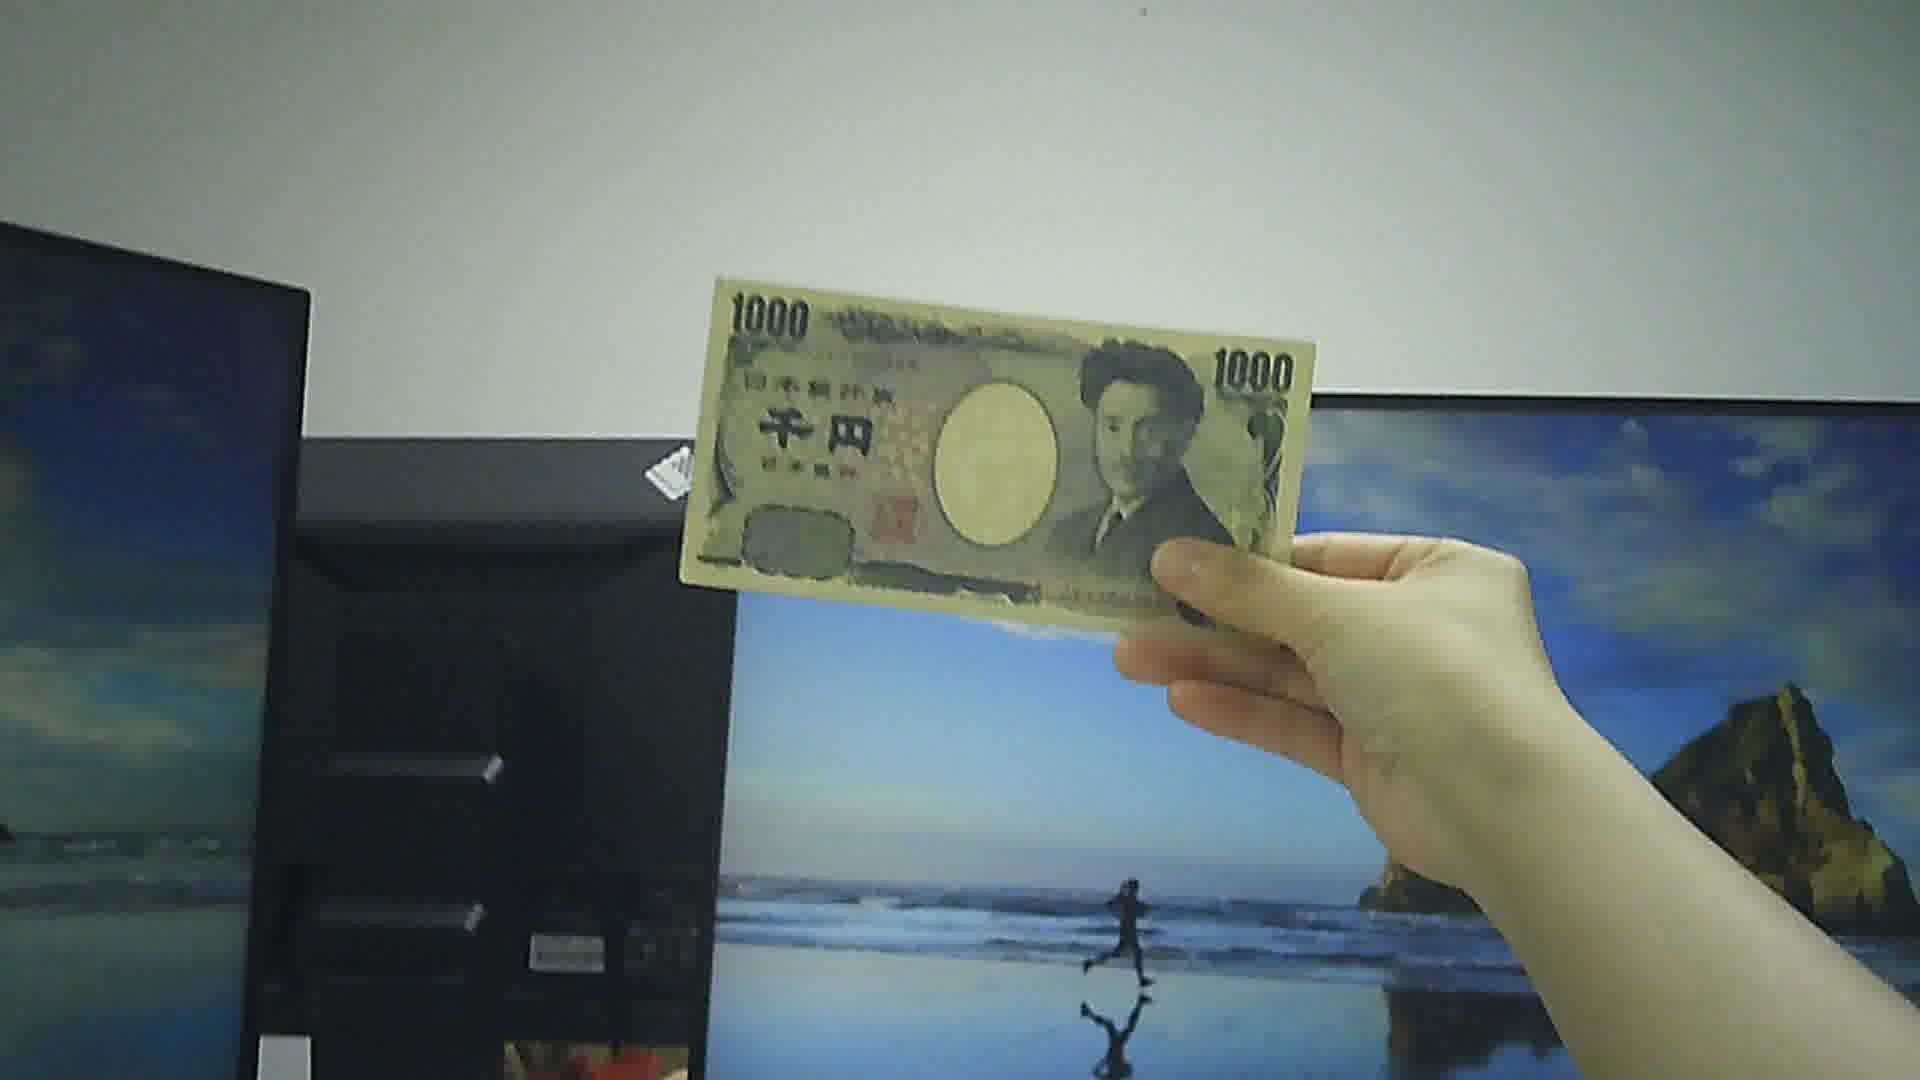1,000 Yen: (687, 262, 1298, 640)
